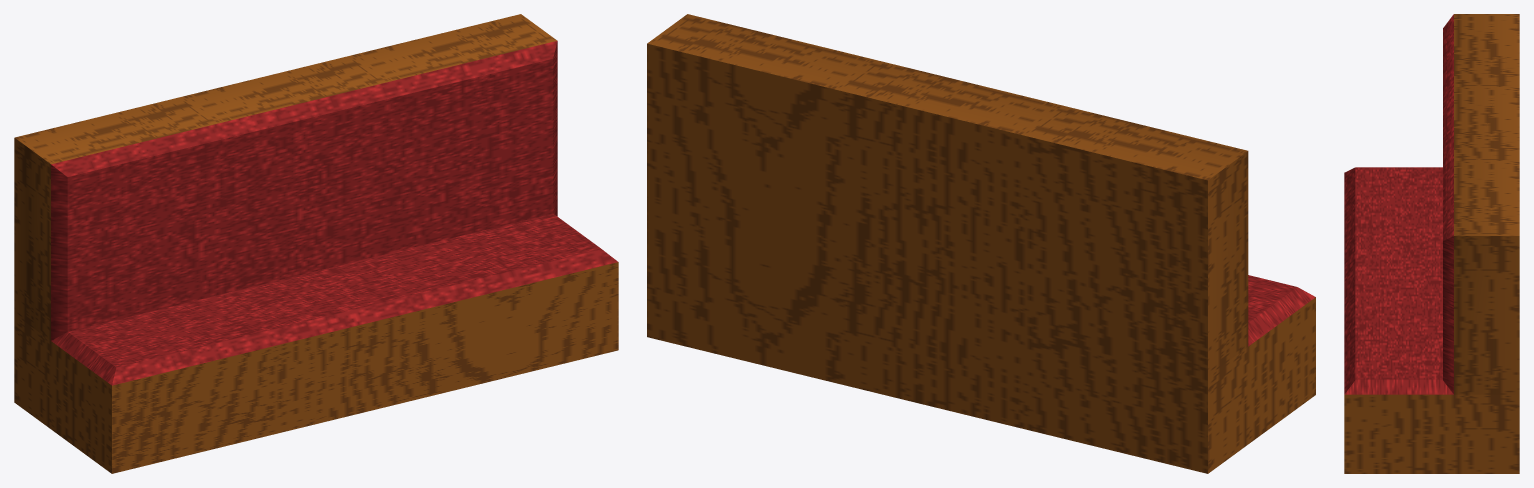
File: DinnerSeat.obj
3 views of the same model, side by side, from view 1: azimuth 30°, elevation 25°; view 2: azimuth 150°, elevation 25°; view 3: azimuth 270°, elevation 25° (orthographic). The views are drawn at different scales.
Visible parts, largest first — view 1: mesh04; view 2: mesh04; view 3: mesh04.
Part boxes in pixels (bbox=[...]): mesh04: bbox=[14, 14, 618, 473]; mesh04: bbox=[647, 14, 1315, 473]; mesh04: bbox=[1344, 14, 1519, 473].
Bounding box in the file's own units: 12 × 6 × 4.
Materials: 2 (2 with a texture image).
